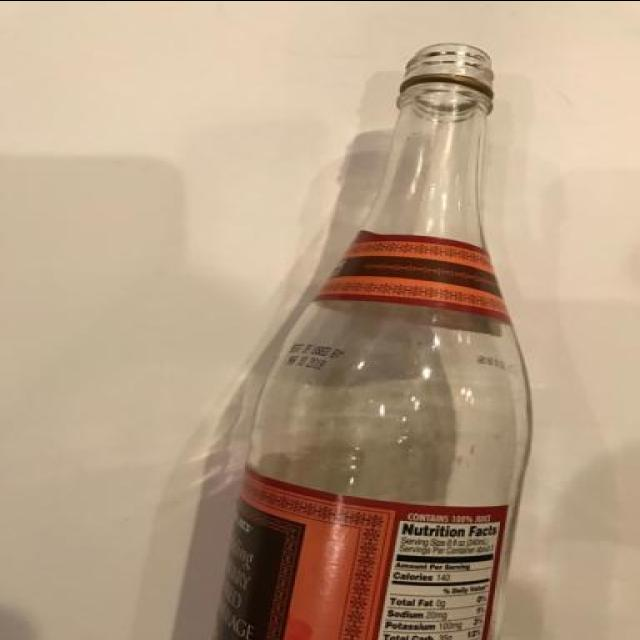glass: (198, 33, 548, 640)
